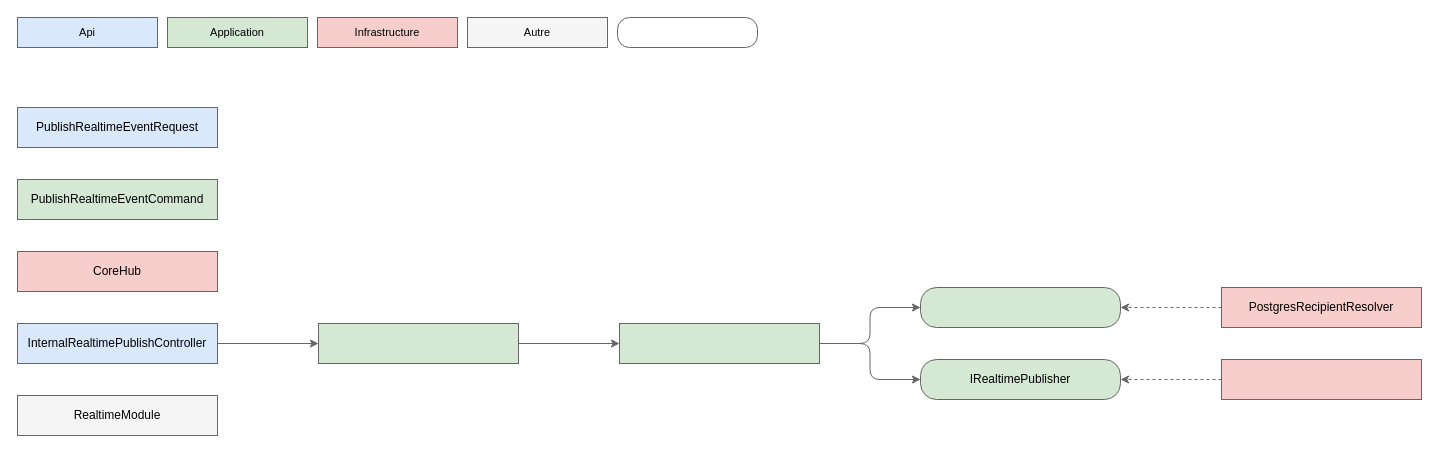
The diagram is 1439 pixels wide and 453 high, and some of its shapes have lost their labels. The box of each missing label's shape, as (x1, y1, x2, y2) in pixels:
IRecipientResolver: (920, 286, 1120, 328)
Port (interface): (616, 16, 758, 48)
PublishRealtimeEventUseCase: (318, 322, 518, 364)
RealtimeEventService: (618, 322, 820, 364)
SignalRRealtimePublisher: (1220, 358, 1422, 400)
